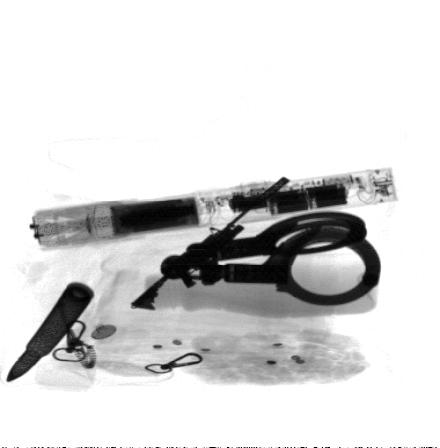Baton: (28, 165, 400, 250)
Bullet: (5, 284, 95, 381)
Gun: (128, 175, 291, 311)
HandCuffs: (161, 213, 381, 304)
